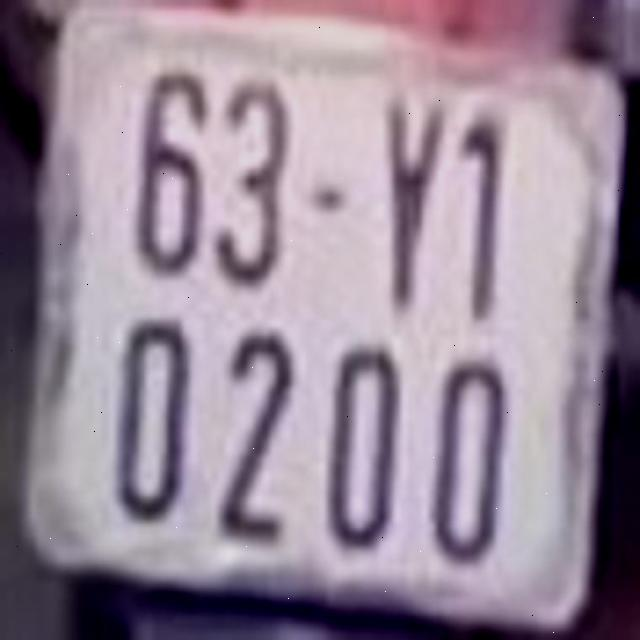0: (113, 312, 190, 522), (324, 337, 400, 549), (432, 352, 506, 562)
1: (451, 105, 512, 322)
2: (218, 324, 293, 545)
3: (215, 70, 289, 286)
6: (133, 65, 207, 278)
Y: (371, 86, 446, 315)
